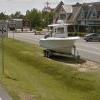Boat: (35, 21, 84, 65)
